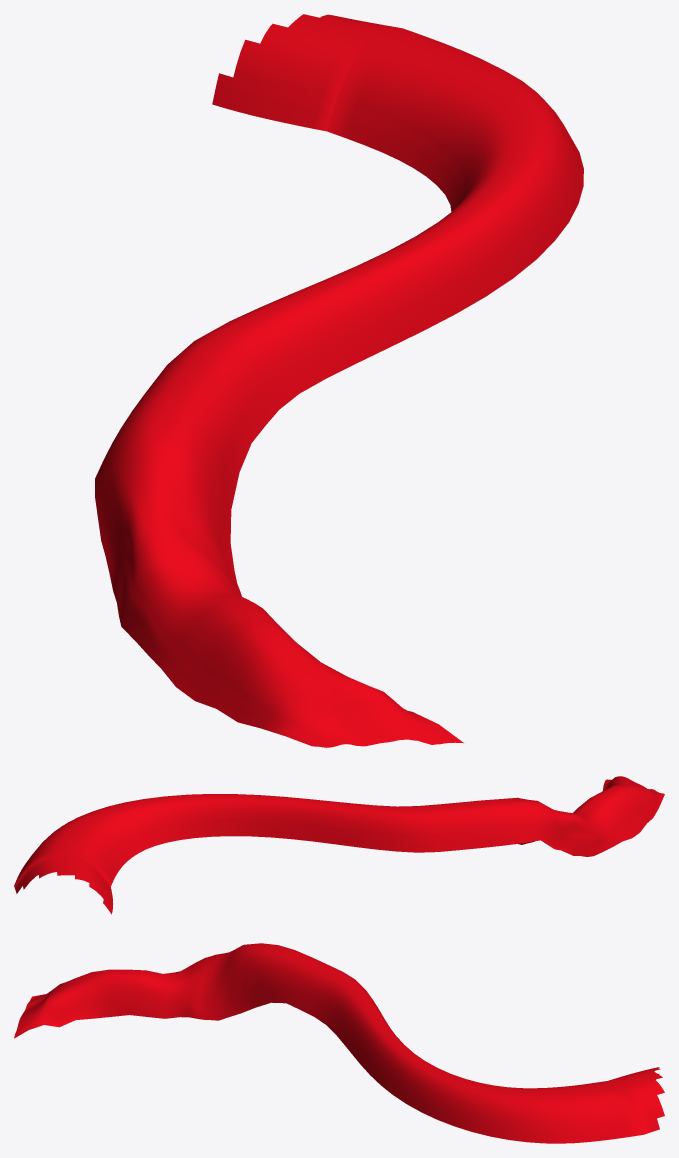
The model's file is River5.fbx.
3 renders of one model, top to bottom at view 1: azimuth 30°, elevation 25°; view 2: azimuth 150°, elevation 25°; view 3: azimuth 270°, elevation 25°, orthographic. The views are drawn at different scales.
Visible parts, largest first — view 1: River5_LOD0; view 2: River5_LOD0; view 3: River5_LOD0.
Boxes of the visible parts, x1=… form: River5_LOD0: x1=95, y1=14, x2=583, y2=747; River5_LOD0: x1=14, y1=776, x2=664, y2=914; River5_LOD0: x1=14, y1=943, x2=664, y2=1143.
Size of what is drawn, in the model's own units: 4163 by 788 by 5841.
